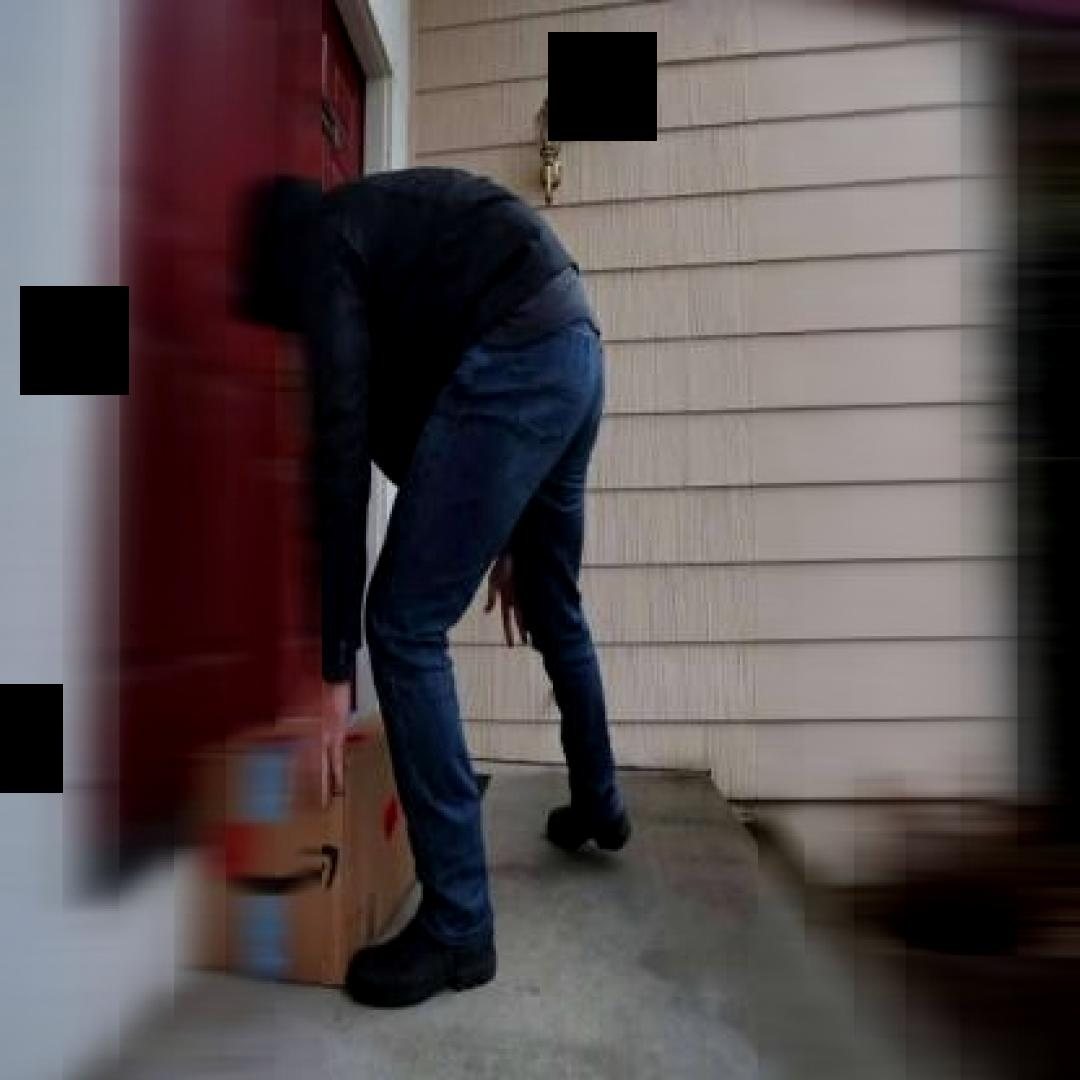package: (192, 700, 444, 994)
